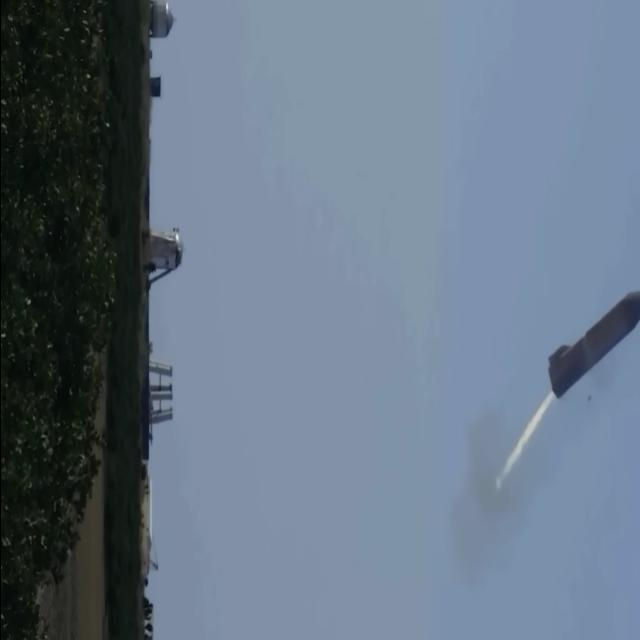missile: (543, 285, 640, 399)
